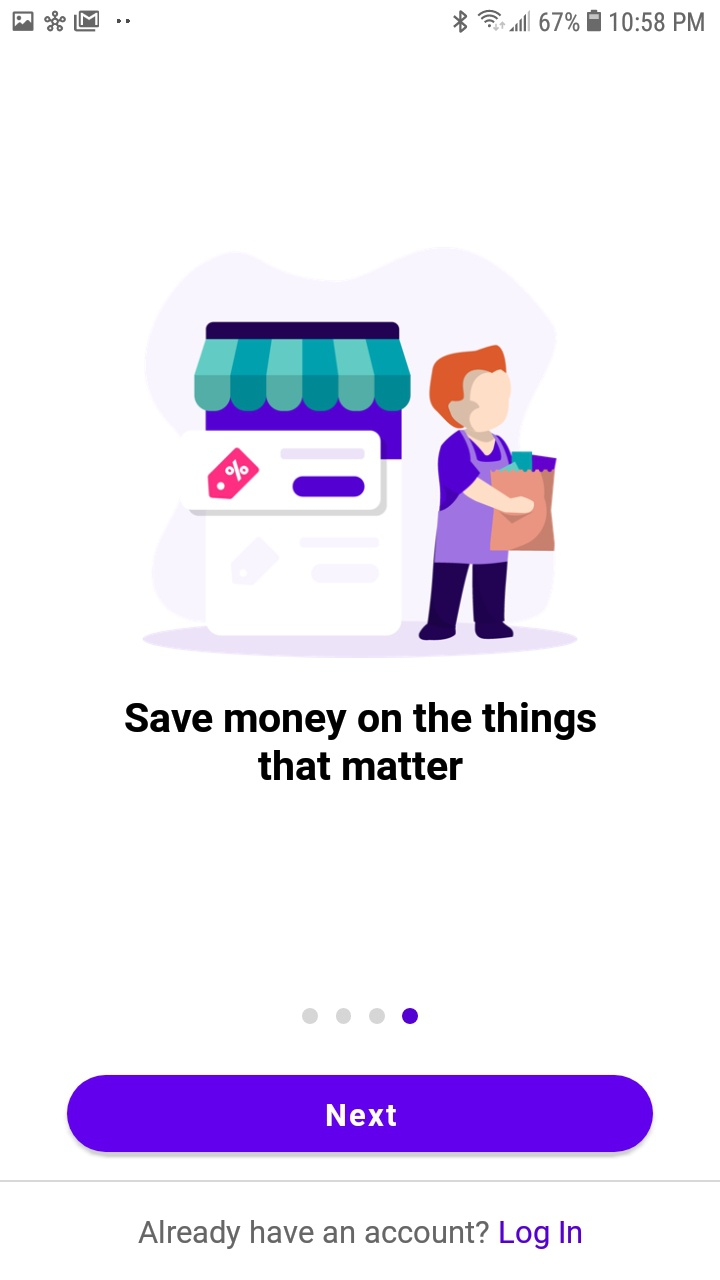Image: (142, 246, 579, 659)
PageIndicator: (301, 1007, 419, 1025)
Text: (125, 701, 597, 781), (138, 1220, 582, 1250)
TextButton: (67, 1074, 654, 1153)
UpperTaskBar: (1, 1, 720, 35)
